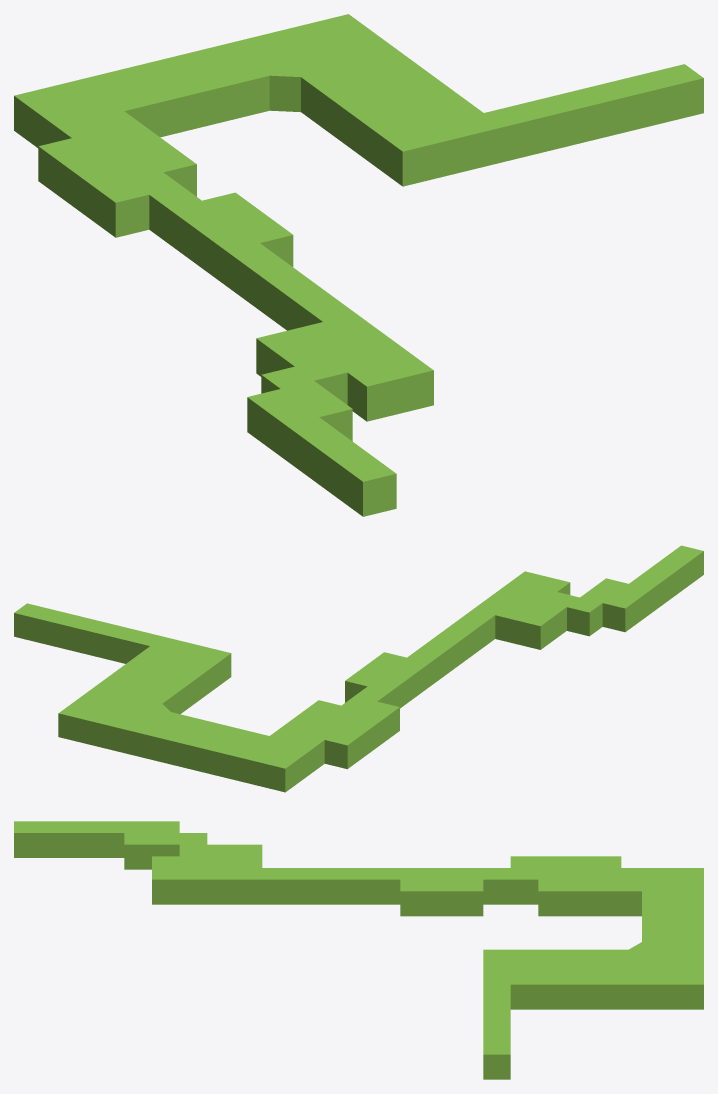
The model's file is x_zem_0_38_1_rmstrd.fbx.
3 views of the same model, one above another, from view 1: azimuth 30°, elevation 25°; view 2: azimuth 150°, elevation 25°; view 3: azimuth 270°, elevation 25° (orthographic). The views are drawn at different scales.
Parts seen in each view (by area): view 1: x_zem_0_38_1_rmstrd1; view 2: x_zem_0_38_1_rmstrd1; view 3: x_zem_0_38_1_rmstrd1.
Boxes of the visible parts, box(x1,y1,x2,y2) form: x_zem_0_38_1_rmstrd1: box(14, 14, 703, 516); x_zem_0_38_1_rmstrd1: box(14, 545, 703, 792); x_zem_0_38_1_rmstrd1: box(14, 821, 703, 1079).
Size of the model in its own units: 20 by 1 by 25.
